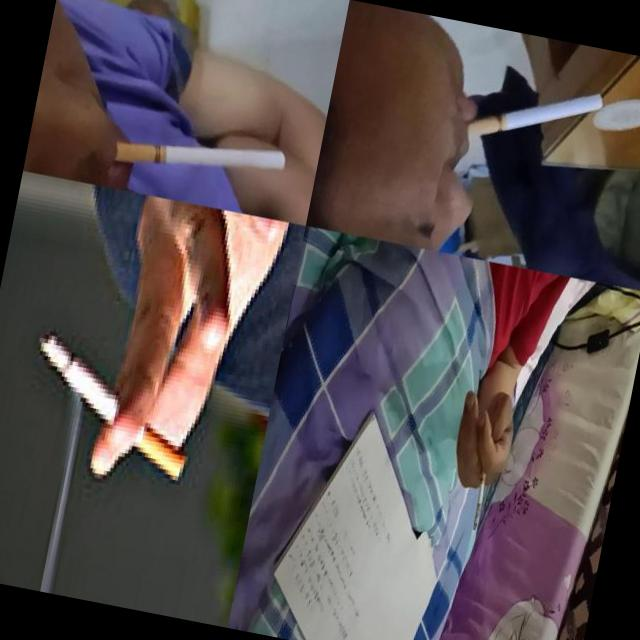smoke: (17, 330, 206, 484), (109, 118, 289, 197), (462, 68, 608, 164), (468, 454, 492, 532)
